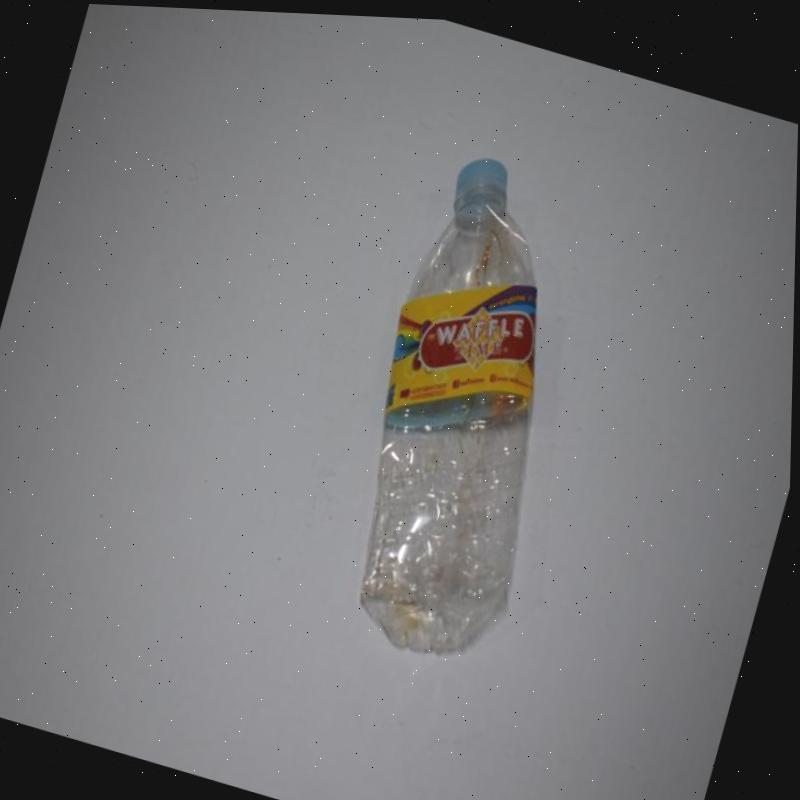botella: (315, 130, 625, 674)
